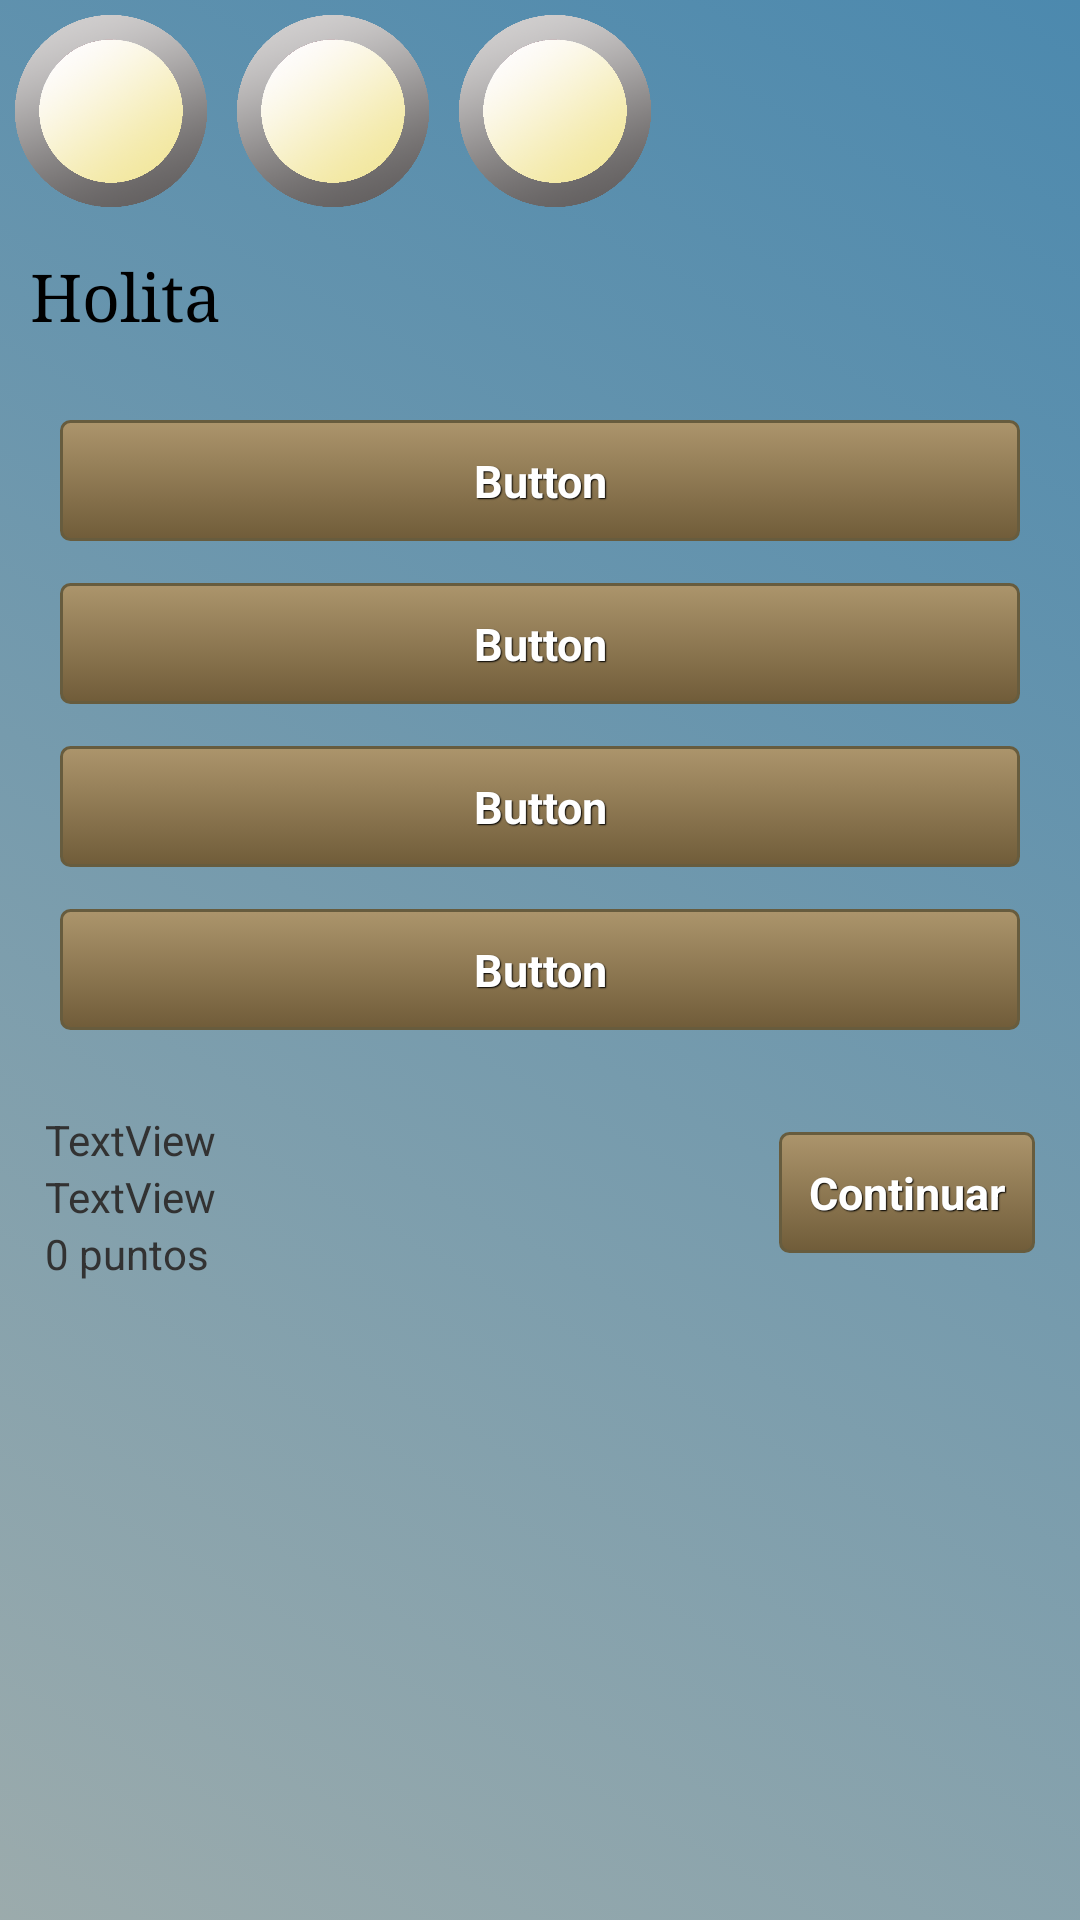

Point at icon controls on the screen. Image size 1080*1920, points as point (x, y).
iconnoerror: point (111, 111), point (333, 111), point (555, 111)
